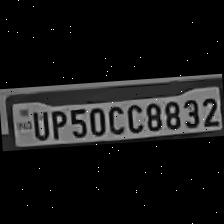0: (84, 104, 106, 136)
2: (197, 93, 219, 126)
3: (178, 94, 200, 128)
5: (65, 104, 88, 138)
8: (141, 98, 164, 132), (160, 96, 182, 130)
C: (122, 100, 143, 133), (104, 103, 125, 135)
P: (46, 106, 67, 140)
U: (28, 106, 50, 140)
